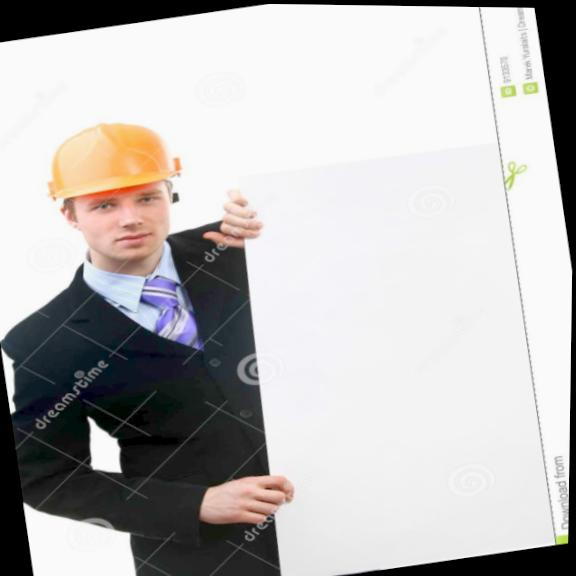no_safety_vest: (0, 225, 287, 565)
